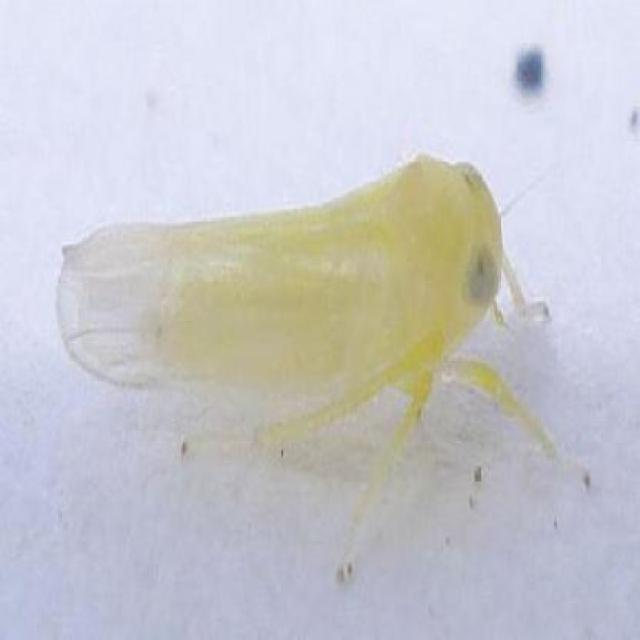green-leafhopper: (59, 160, 501, 426)
